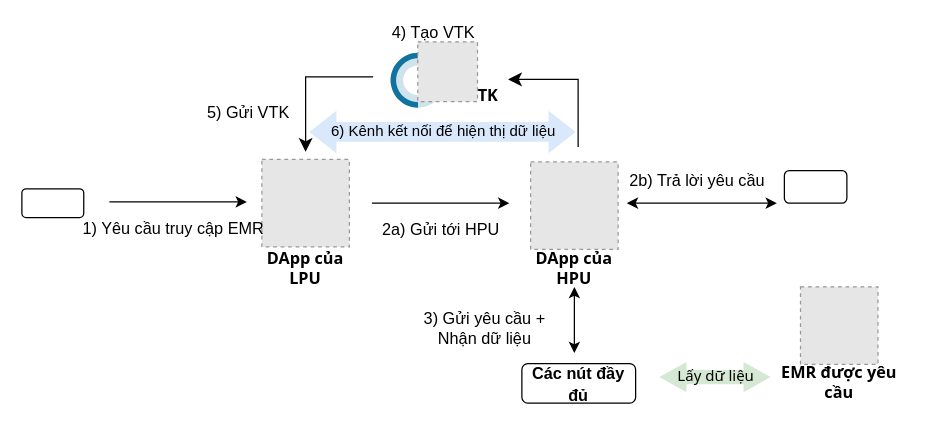
Image size: 930x428. Some labels were removed from this diagram. Grey dashed boxes stand in for pictures. The centre of each missing label's shape, as x and y in pixels:
"HPU" goes at (x=815, y=186).
"LPU" goes at (x=52, y=203).
